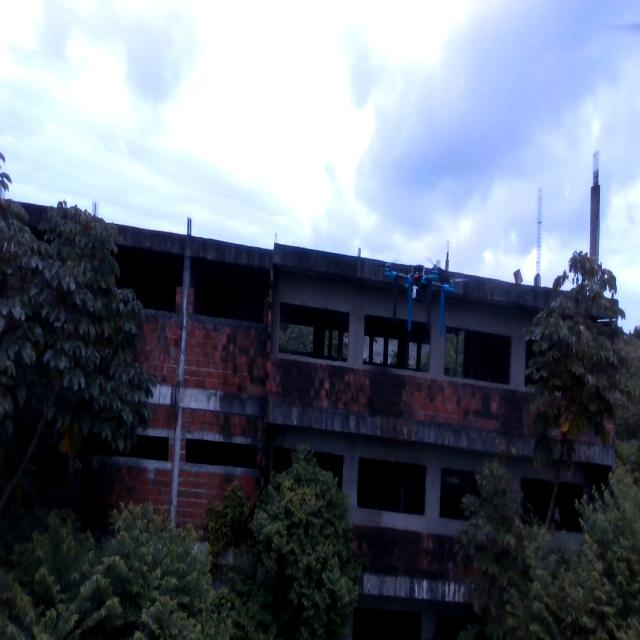-uav-: (381, 233, 460, 366)
